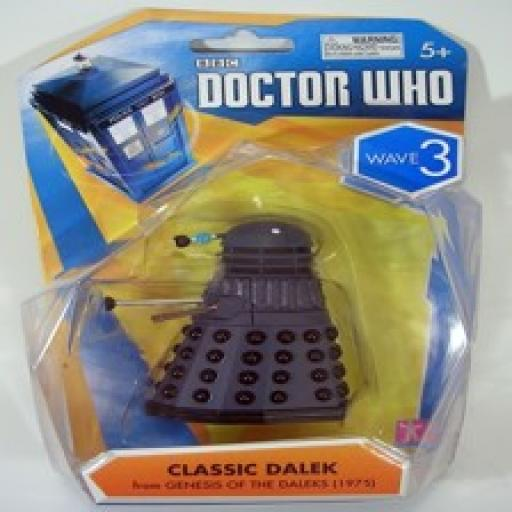dalek: (85, 218, 355, 428)
